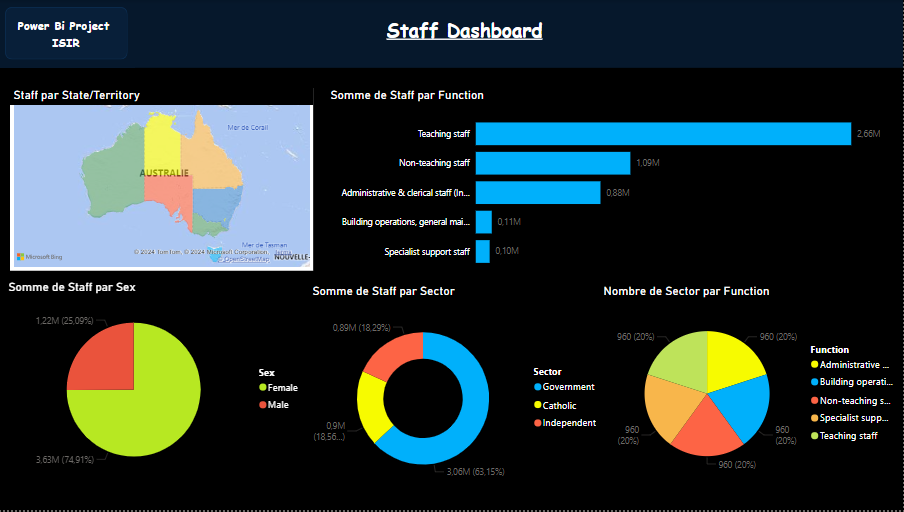

What the dashboard file says about the page in this screenshot:
{"tool":"powerbi","page":{"name":"Page 1","canvas":[1280,720],"ordinal":0},"visuals":[{"type":"clusteredBarChart","fields":{"Category":["staff?page=1&per_page=4800.Function"],"Y":["Sum(staff?page=1&per_page=4800.Staff)"]},"box":[465.9,124.2,787.8,269.6],"z":0},{"type":"donutChart","fields":{"Category":["staff?page=1&per_page=4800.Sector"],"Y":["Sum(staff?page=1&per_page=4800.Staff)"]},"box":[440.1,401.5,419.9,304],"z":1000},{"type":"filledMap","title":"Staff par State/Territory","fields":{"Category":["staff?page=1&per_page=4800.State/Territory"]},"box":[18.4,124.2,427.8,258.4],"z":2000},{"type":"shape","box":[0,0,194.8,96],"z":3000},{"type":"shape","box":[11.4,10.3,173.2,74.1],"z":4000},{"type":"textbox","box":[18.2,19.4,158.4,57],"z":5000},{"type":"shape","box":[194.9,0,1085.1,95.7],"z":6000},{"type":"textbox","box":[544.3,18.5,287.2,57.1],"z":7000},{"type":"pieChart","fields":{"Category":["staff?page=1&per_page=4800.Sex"],"Y":["Sum(staff?page=1&per_page=4800.Staff)"]},"box":[11.8,394.8,428.3,290.6],"z":8000},{"type":"pieChart","fields":{"Y":["CountNonNull(staff?page=1&per_page=4800.Sector)"],"Category":["staff?page=1&per_page=4800.Function"]},"box":[851.7,401.5,428.3,290.6],"z":9000}]}

Visuals, with their boxes in screenshot pixels (x1, y1, x2, y2), scaled from the page's 1280x720 canvas onto the 904x512 screenshot:
clusteredBarChart - staff?page=1&per_page=4800.Function x Sum(staff?page=1&per_page=4800.Staff): <box>329,88,885,280</box>
donutChart - staff?page=1&per_page=4800.Sector x Sum(staff?page=1&per_page=4800.Staff): <box>311,286,607,502</box>
"Staff par State/Territory" filledMap: <box>13,88,315,272</box>
shape: <box>0,0,138,68</box>
shape: <box>8,7,130,60</box>
textbox: <box>13,14,125,54</box>
shape: <box>138,0,903,68</box>
textbox: <box>384,13,587,54</box>
pieChart - staff?page=1&per_page=4800.Sex x Sum(staff?page=1&per_page=4800.Staff): <box>8,281,311,487</box>
pieChart - CountNonNull(staff?page=1&per_page=4800.Sector) x staff?page=1&per_page=4800.Function: <box>602,286,903,492</box>
